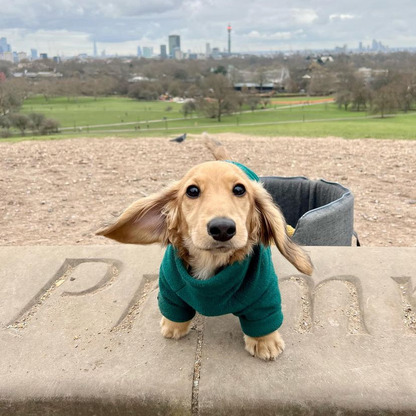dachshund: (108, 119, 329, 378)
